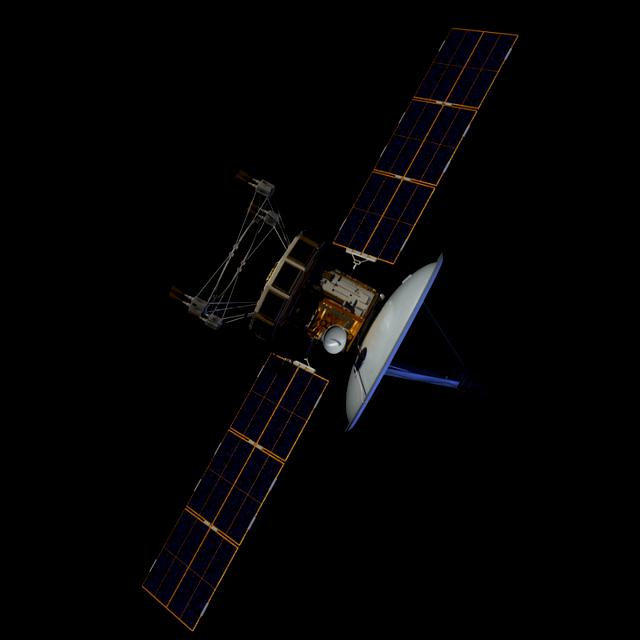satellite: (130, 10, 522, 638)
